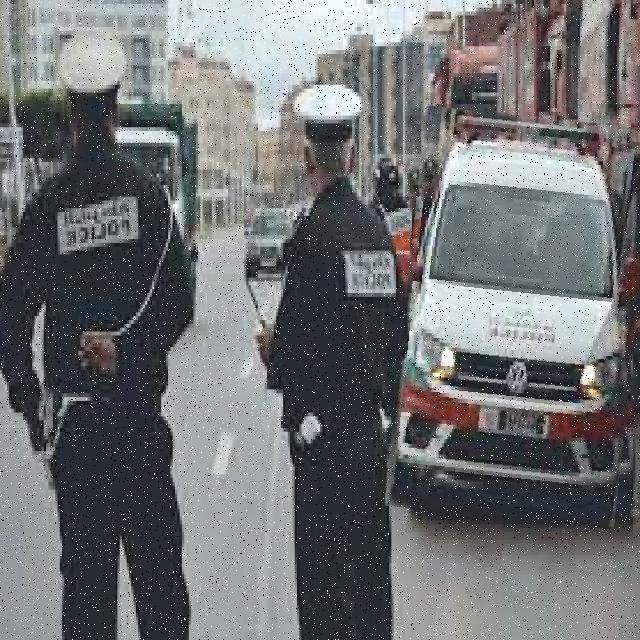police: (395, 111, 640, 524)
